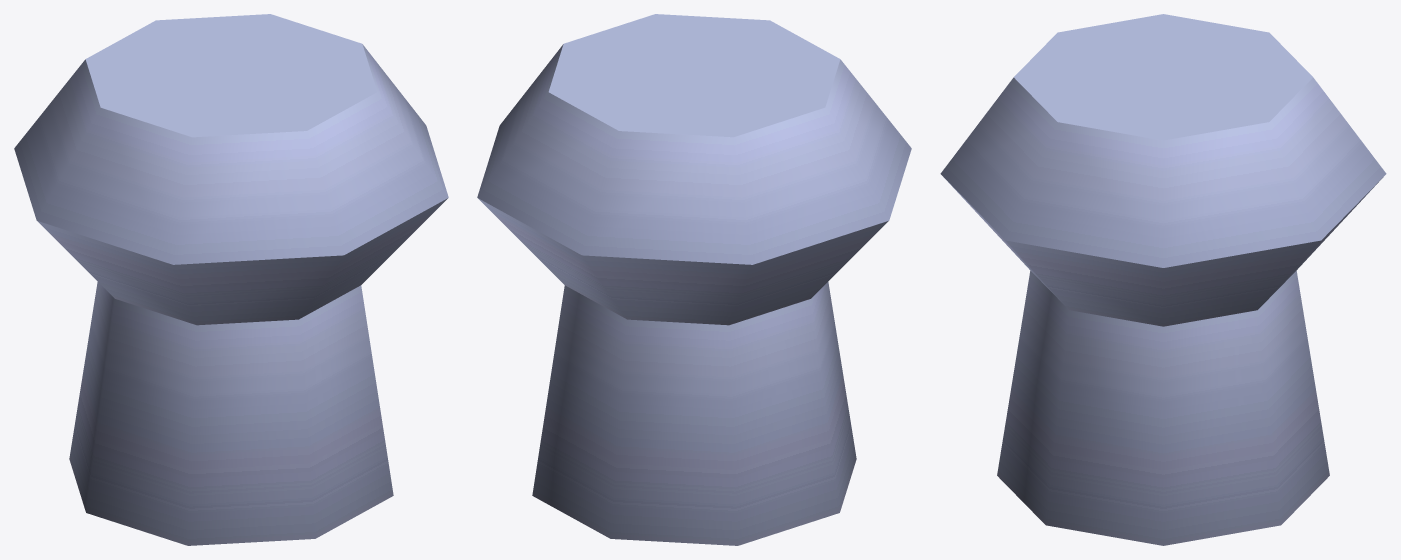
The model's file is detail-pipe.glb.
3 views of the same model, side by side, from view 1: azimuth 30°, elevation 25°; view 2: azimuth 150°, elevation 25°; view 3: azimuth 270°, elevation 25° (orthographic).
Visible parts, largest first — view 1: detail-pipe; view 2: detail-pipe; view 3: detail-pipe.
Part boxes in pixels (<box>): detail-pipe: <box>14,14,448,545</box>; detail-pipe: <box>477,14,911,545</box>; detail-pipe: <box>940,14,1386,545</box>.
Bounding box in the file's own units: 0.4342 × 0.4277 × 0.4342.
1 material, 1 textured.
